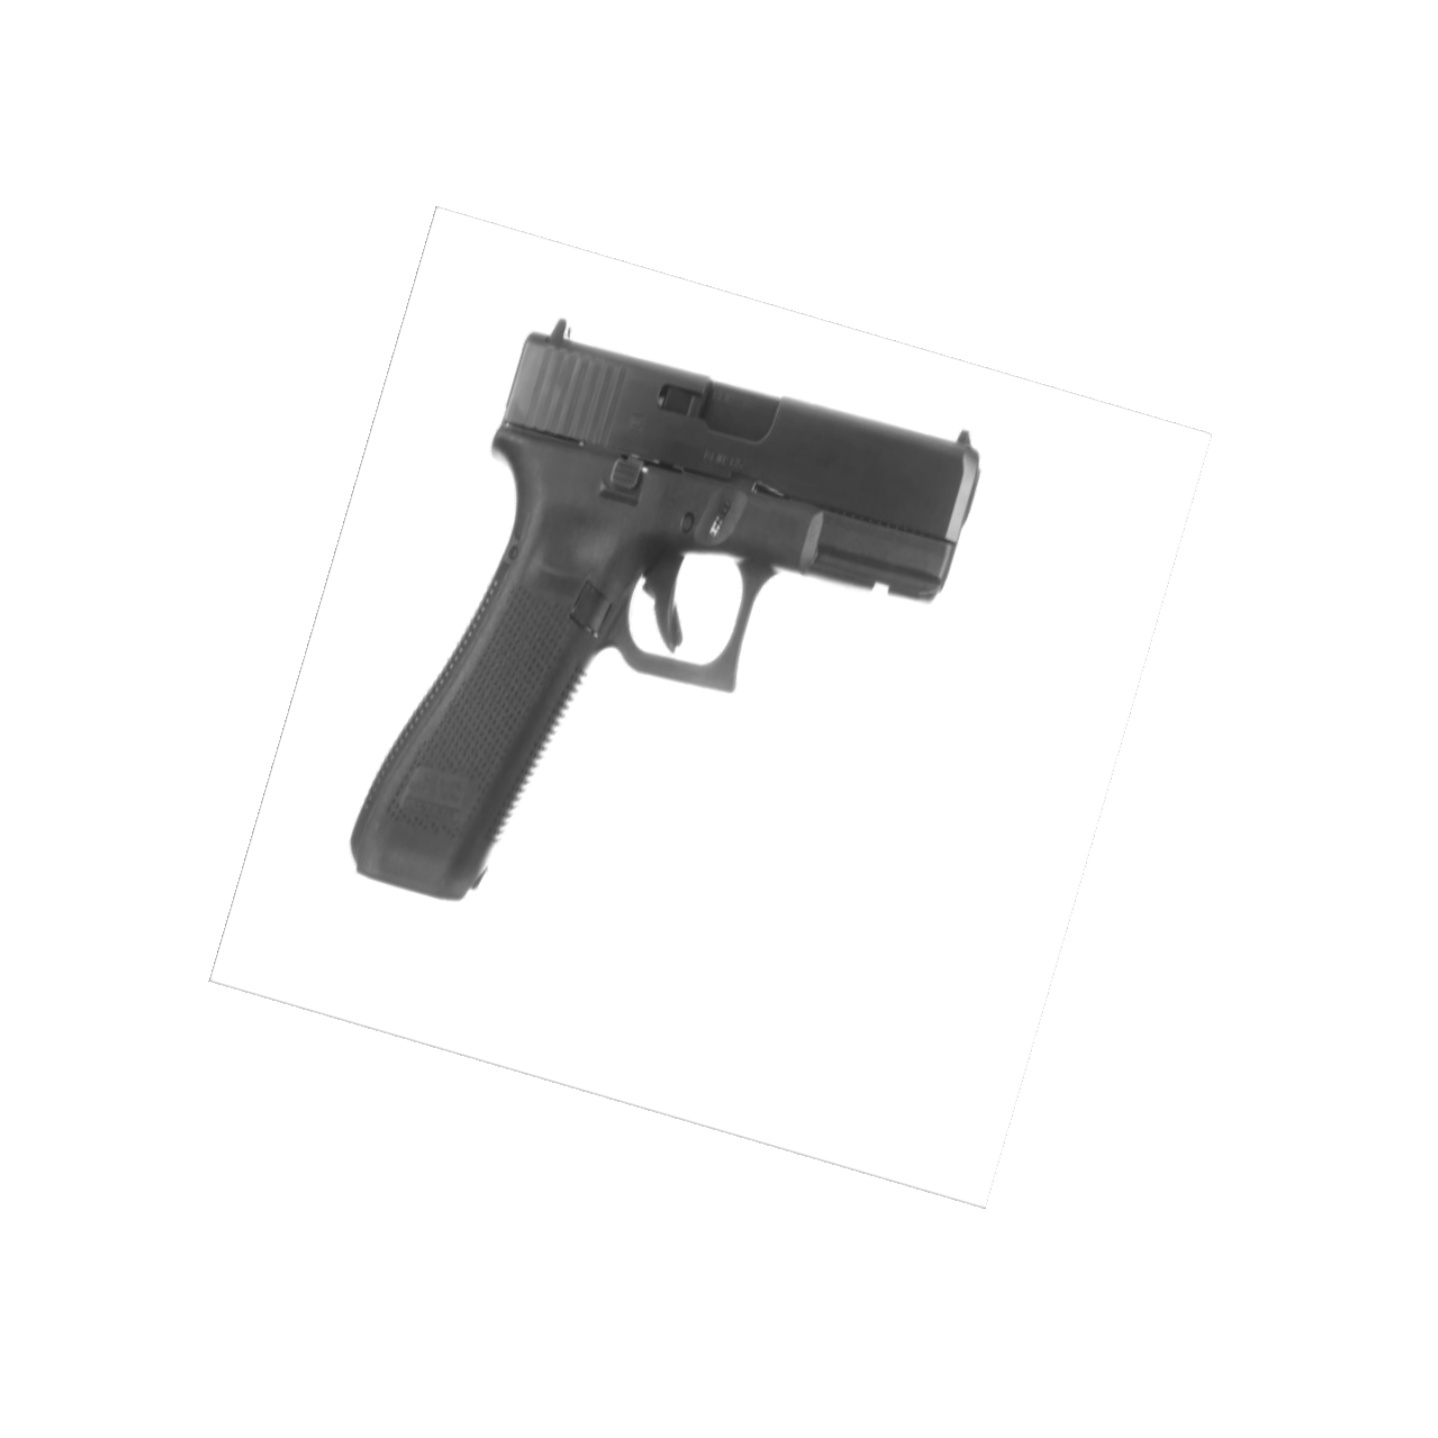gun: (342, 309, 988, 913)
